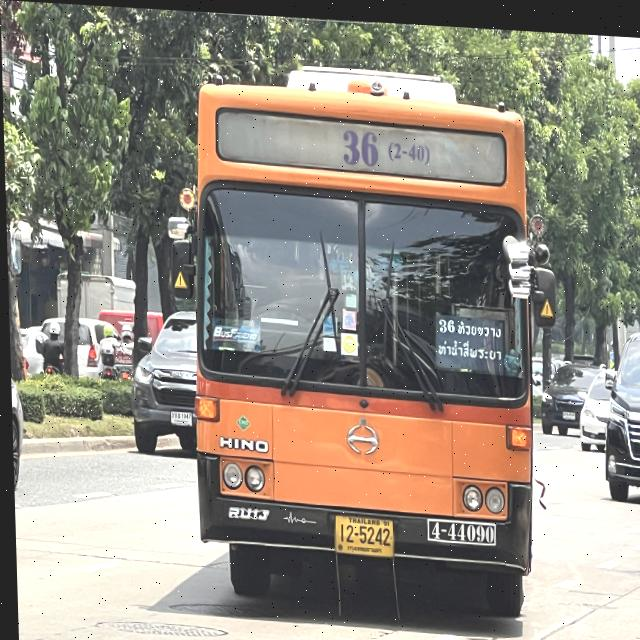BMTA-bus: (178, 57, 558, 617)
Bus-Line-Number: (333, 121, 432, 171)
Destination-Sign-Normal: (432, 308, 504, 369)
